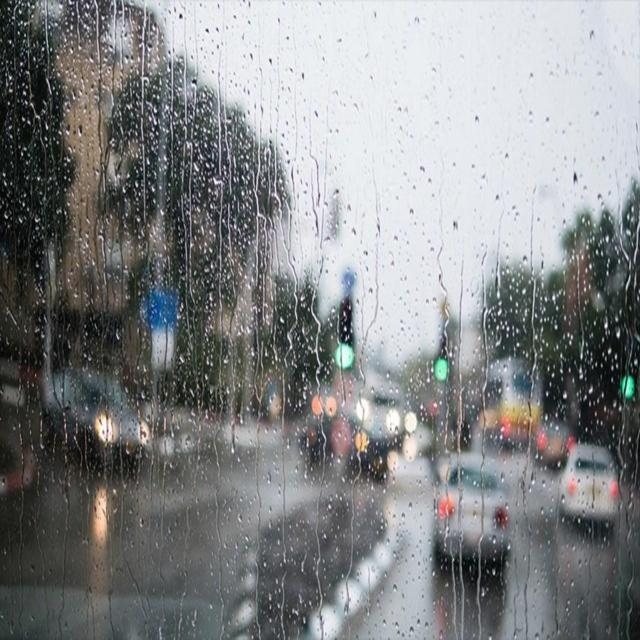Car: (44, 366, 147, 473), (436, 452, 510, 580), (560, 443, 619, 536), (536, 422, 576, 468)
Van: (475, 357, 544, 446)
